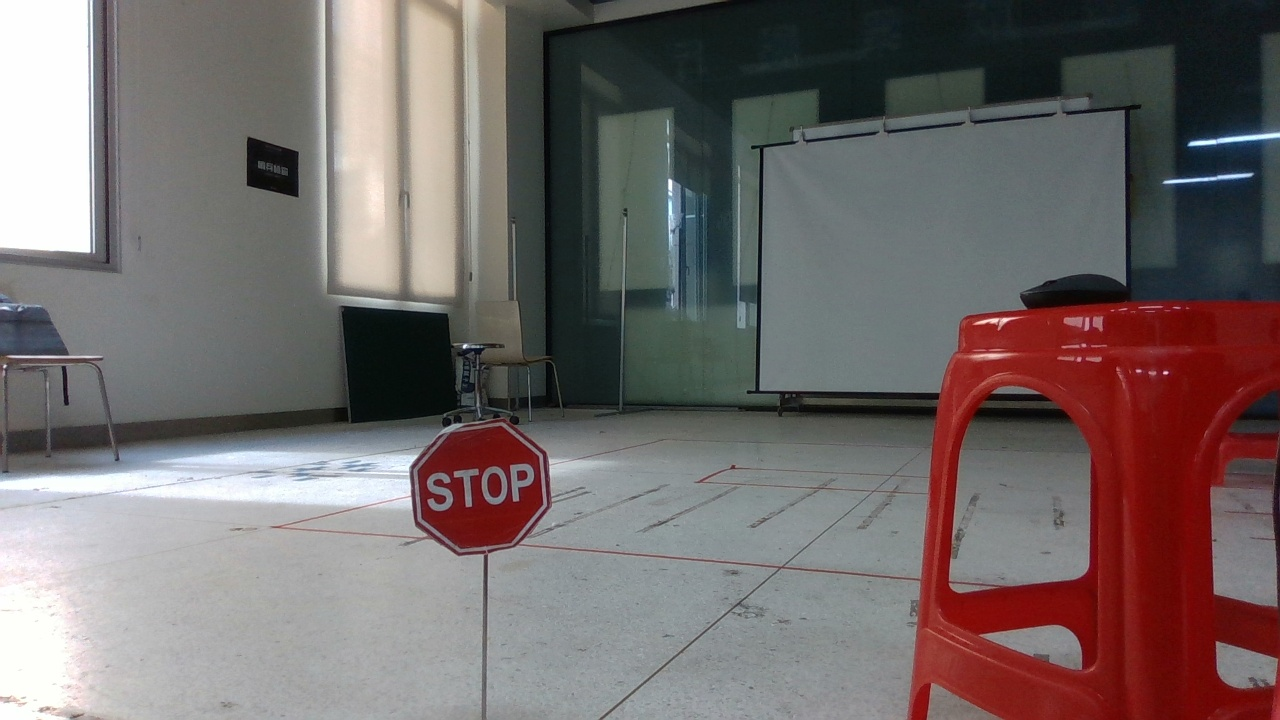stop_sign: (384, 405, 568, 576)
